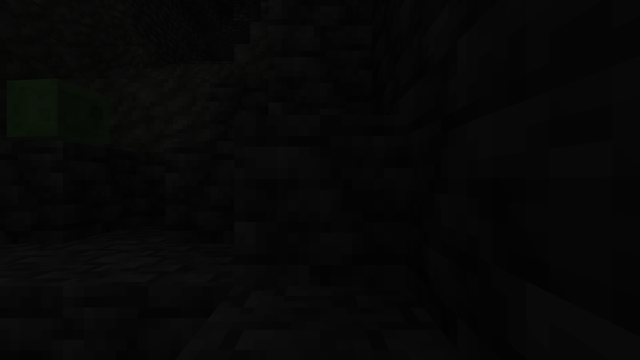slimes: (3, 76, 111, 143)
